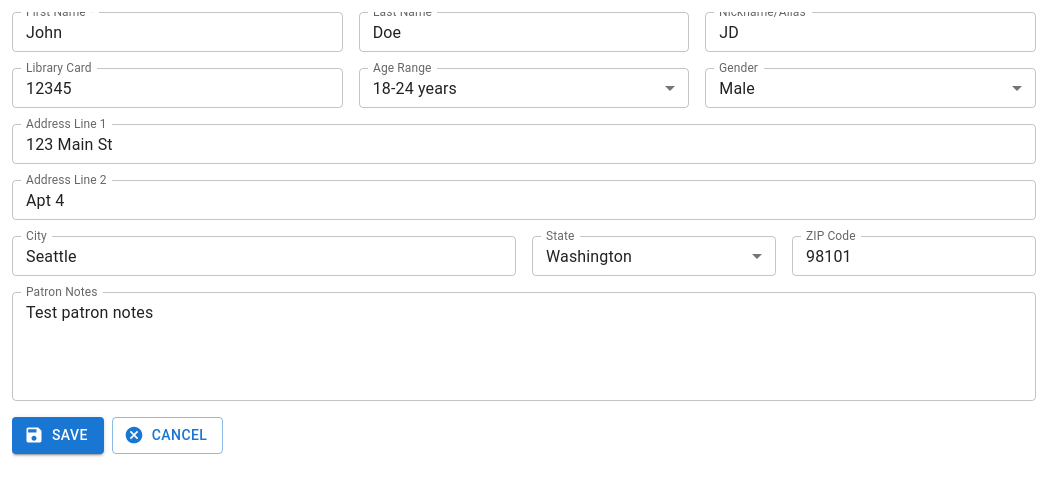
Scenario: PatronInfoForm › Validation › should clear error when user starts typing
The image size is (1048, 504).
Clear the field labelled "First Name *" at [177, 32], box x1=12 y1=12 x2=343 y2=52
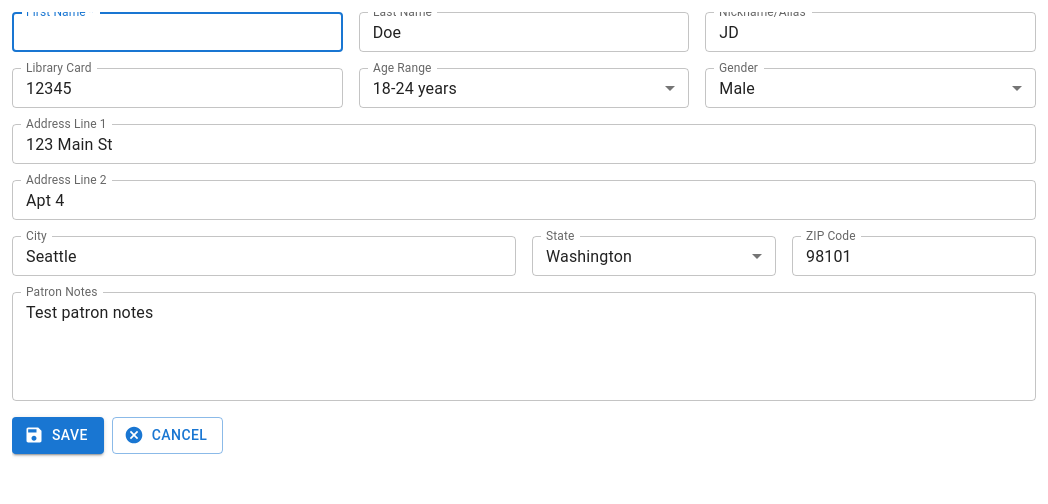
Click the button "Save".
click(58, 435)  # box x1=12 y1=417 x2=104 y2=454
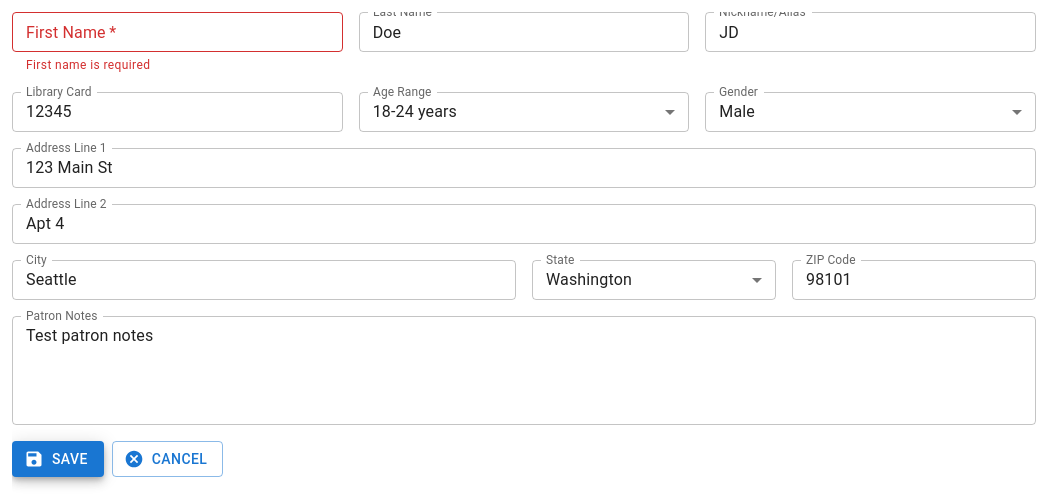
Expected: the text "First name is required" is shown, x1=26 y1=58 x2=150 y2=72
Type "J" into the field labelled "First Name *".
click(177, 32); type("J")  # box x1=12 y1=12 x2=343 y2=52
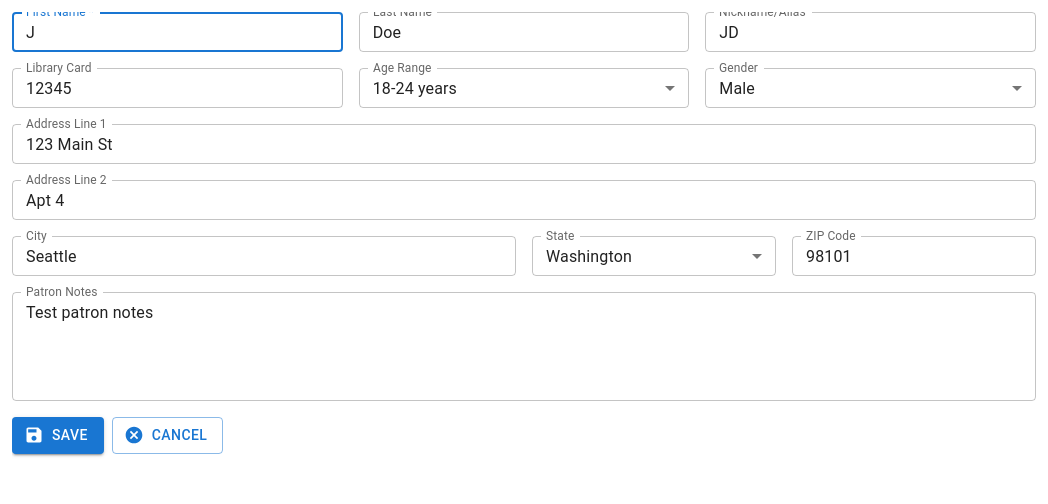
Expected: the text "First name is required" is gone
